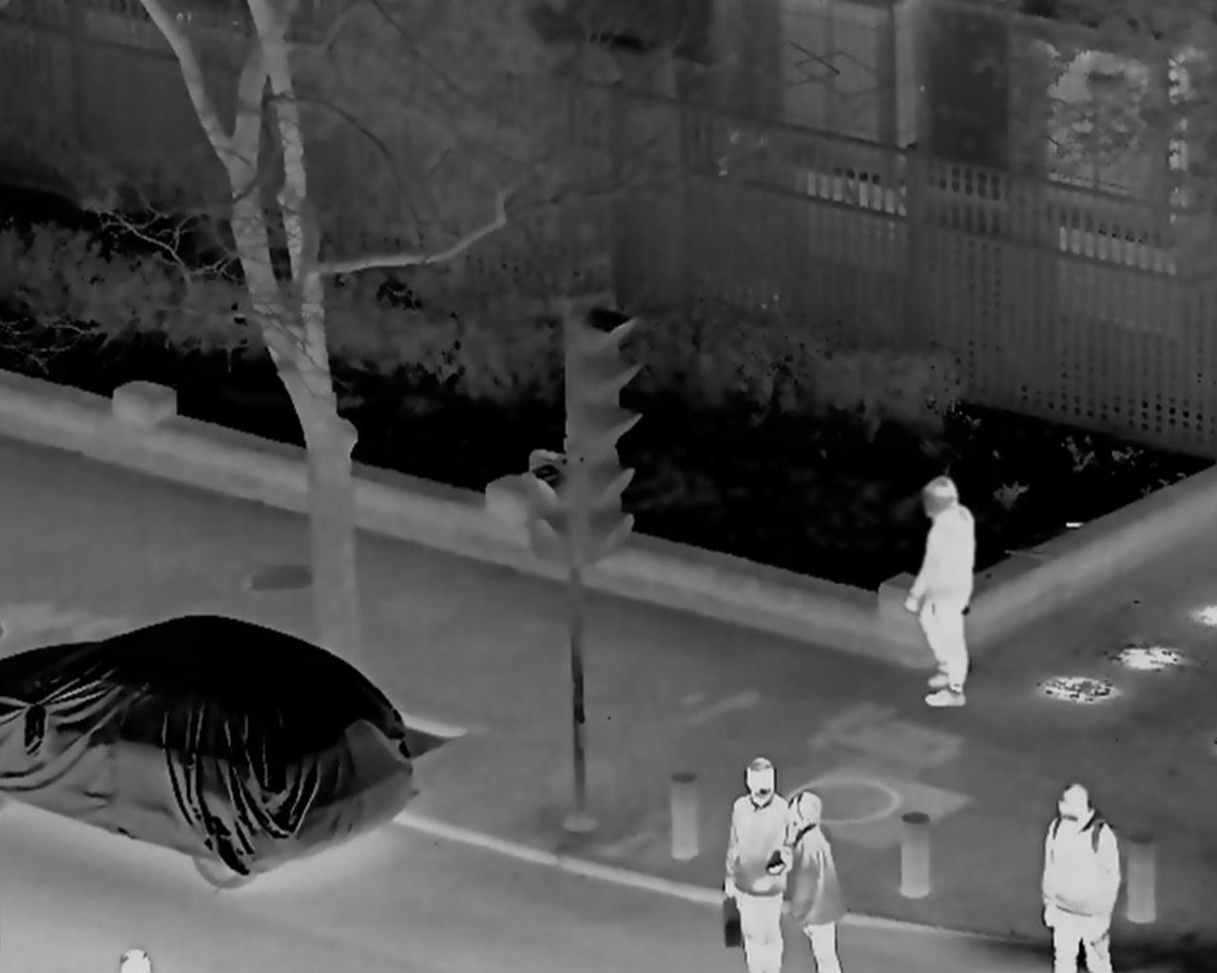person: (714, 750, 799, 973), (1031, 784, 1123, 973), (907, 468, 971, 705), (780, 794, 849, 973)
